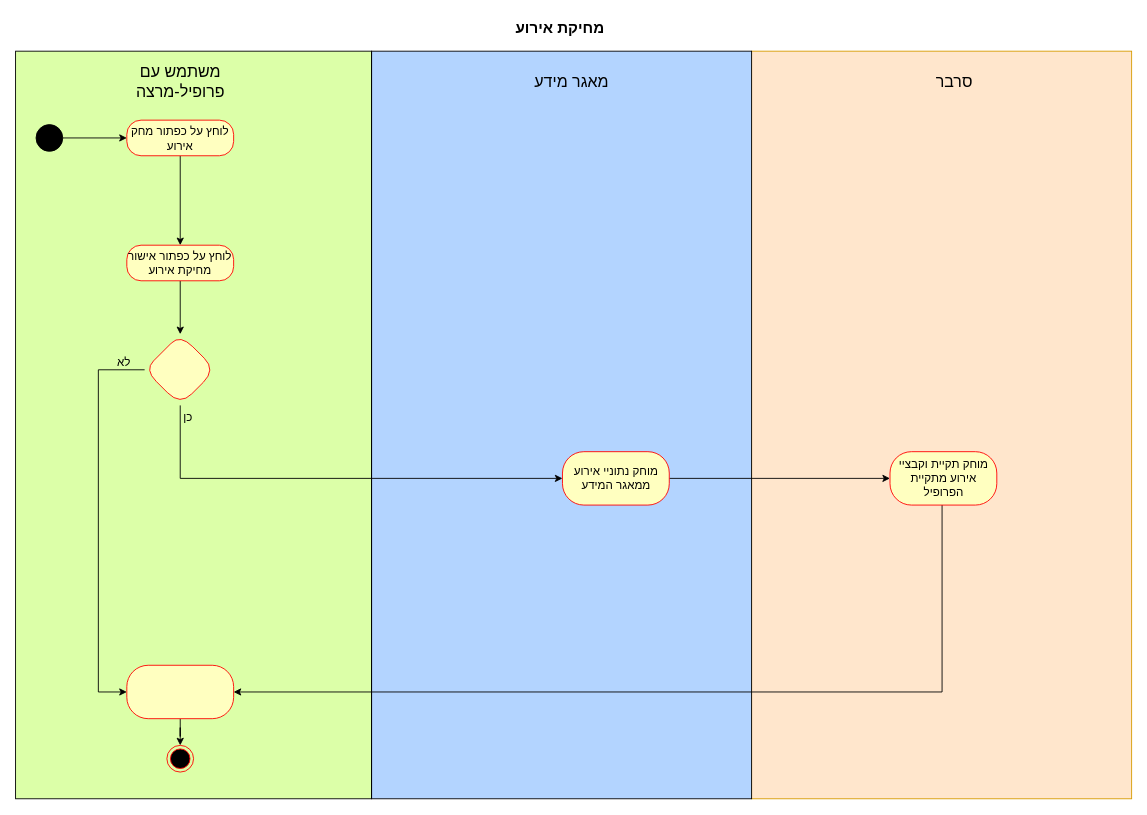
This 1147x815 diagram has some shape labels left out. The shapes that lost their labels are listed below. From the top down, each one's centre as x and y in pixels, then its label:
At (180,369): "אישר מחיקה?".
At (180,691): "עובר לדף פרופיל".
